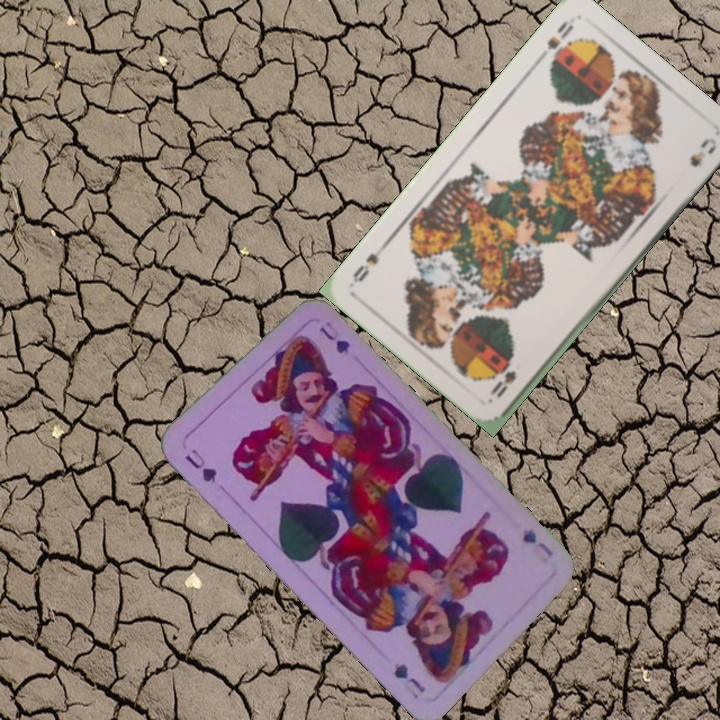GU: (181, 444, 220, 485), (518, 525, 556, 560)
SO: (542, 16, 576, 66), (486, 366, 519, 401)
